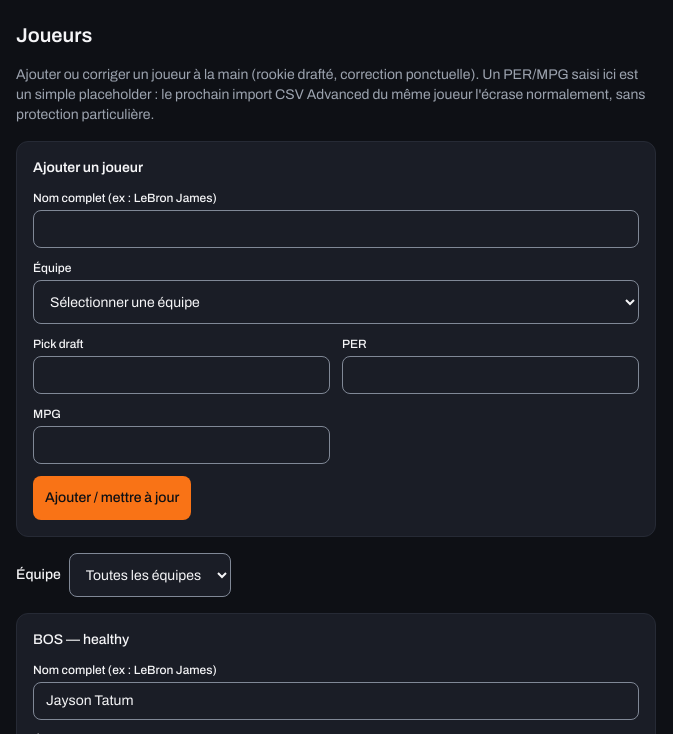
Test: enregistrement : jamais de team_id 0 ni null › replacer un agent libre envoie un team_id numérique, et la fiche quitte la liste des agents libres
Select "Agents libres" in the dropdown with id "team-filter" at (150, 575), box [69,553,231,597]
(page scrolled)
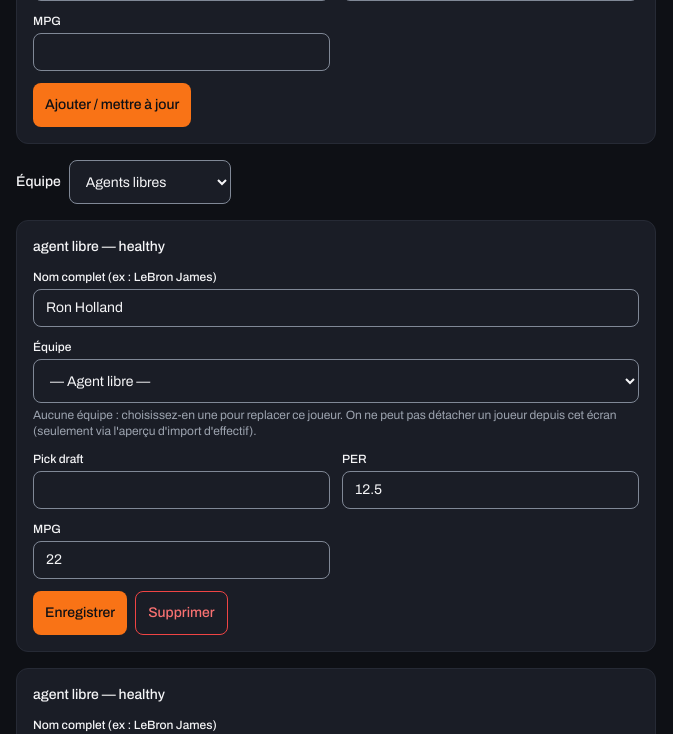
Select "Detroit Pistons" in the 2nd dropdown at (336, 381), box [33,359,639,403]
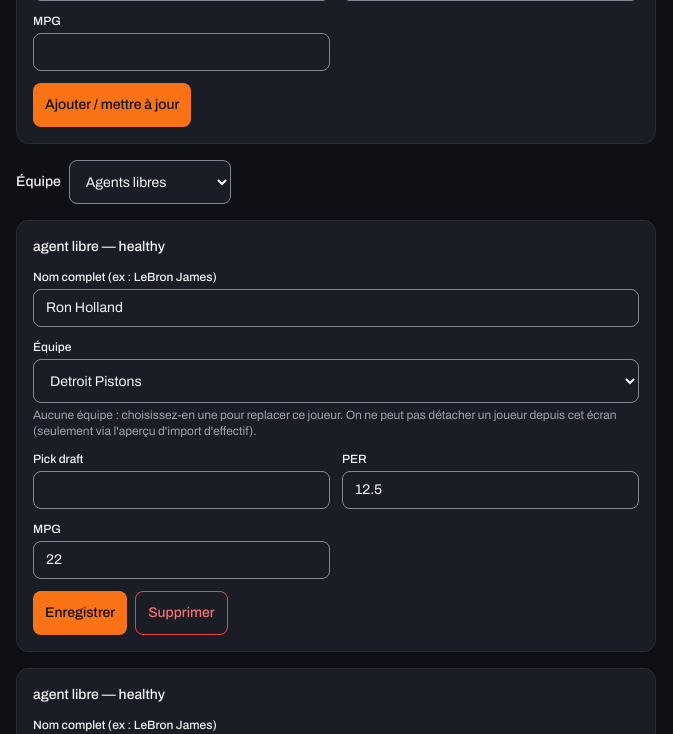
Click the button "Enregistrer" at (80, 613), box [33,591,127,635]
(page scrolled)
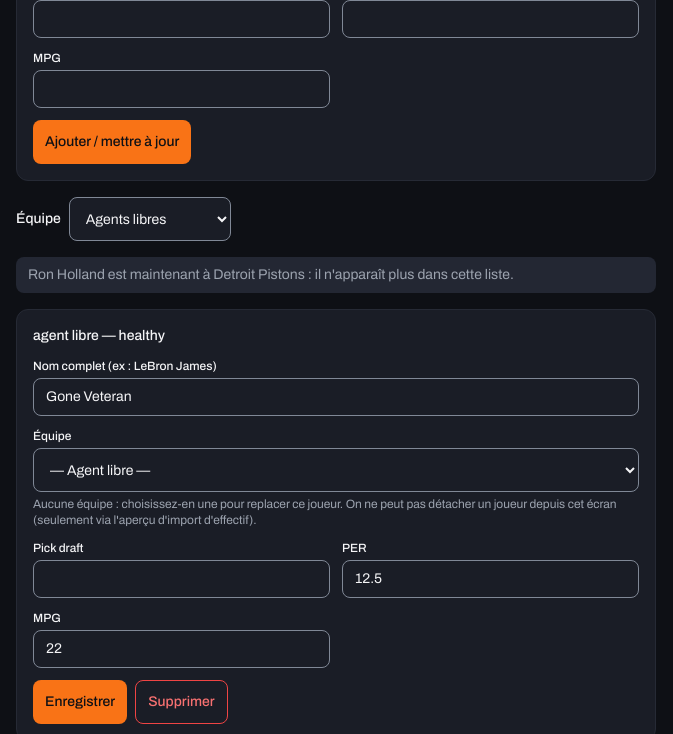
Result: the text "Ron Holland est maintenant à Detroit Pistons" is shown at [28,267,514,282]
